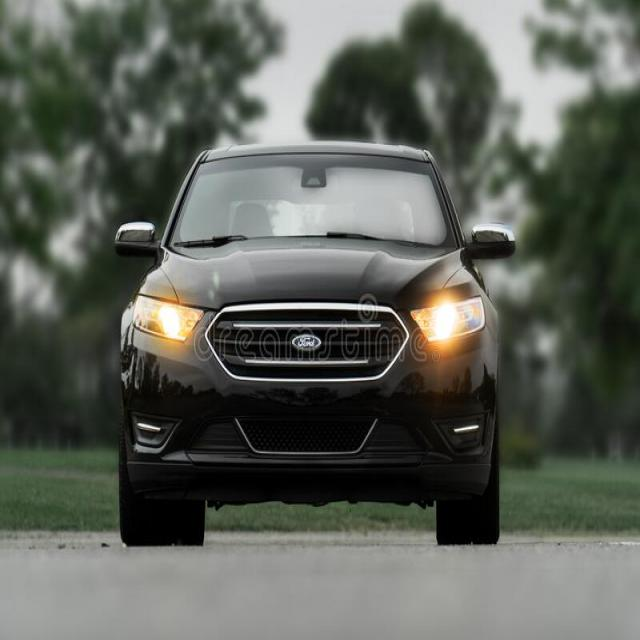yolov7-seg-car: (114, 141, 515, 547)
